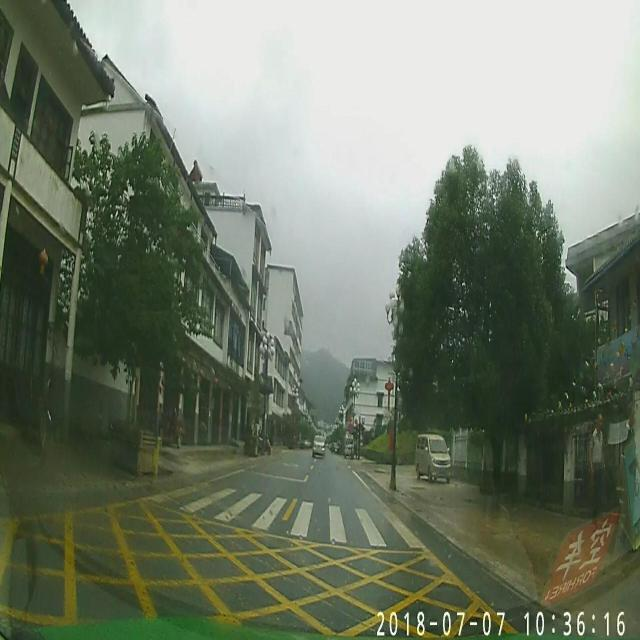car: (416, 433, 449, 480), (312, 433, 328, 454)
